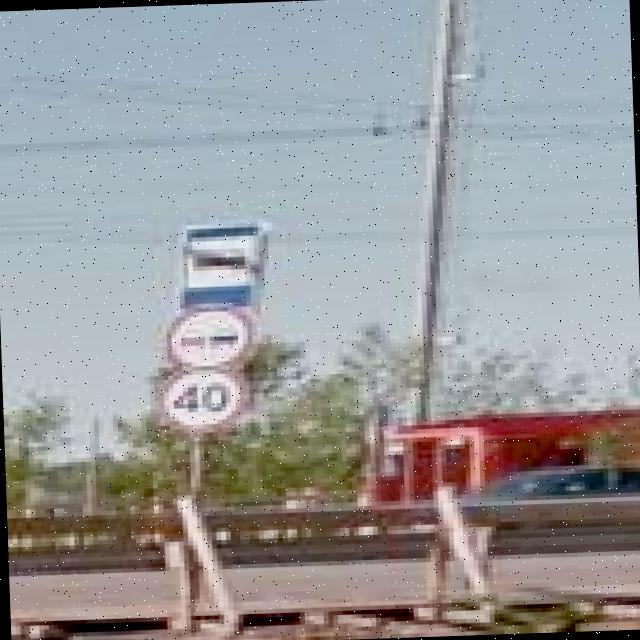Ograniczenie predkosci do 40: (157, 360, 246, 438)
